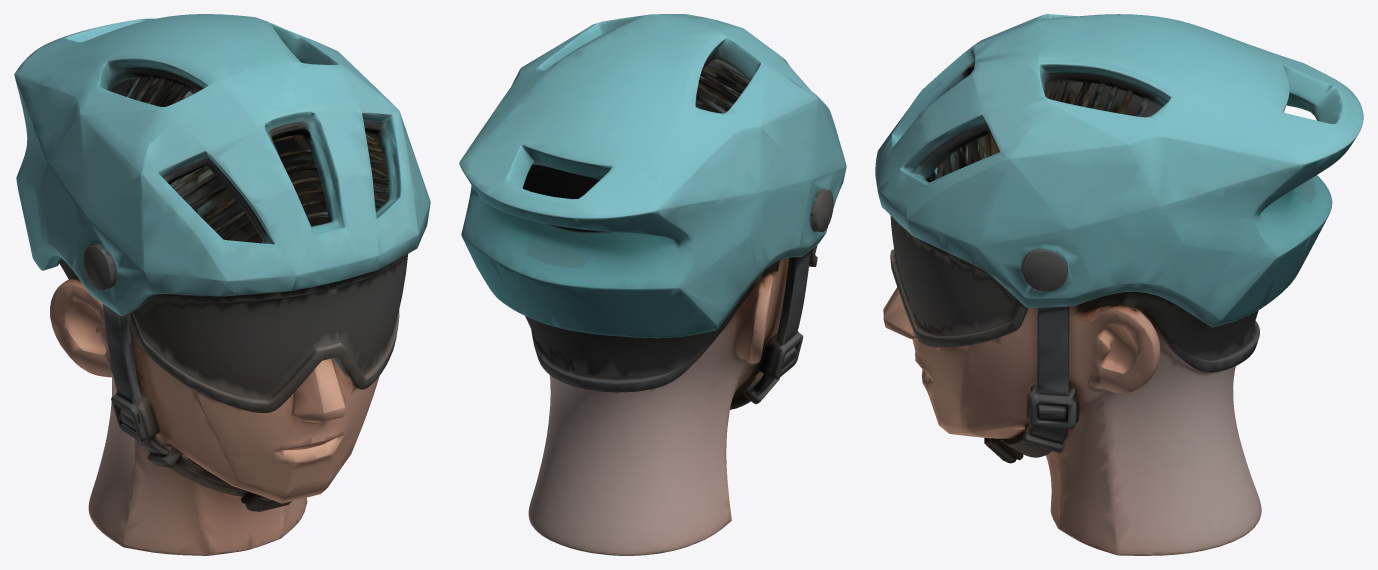
Rendered from head.glb.
The picture shows the model from 3 angles, left to right: view 1: azimuth 30°, elevation 25°; view 2: azimuth 150°, elevation 25°; view 3: azimuth 270°, elevation 25°; orthographic projection. The views are drawn at different scales.
Parts seen in each view (by area): view 1: node_0; view 2: node_0; view 3: node_0.
Part boxes in pixels (x1,y1,x2,y2): node_0: (14, 14, 430, 555); node_0: (459, 14, 846, 555); node_0: (875, 14, 1363, 555).
Bounding box in the file's own units: 0.713 × 1.06 × 0.9781.
1 material, 1 textured.
